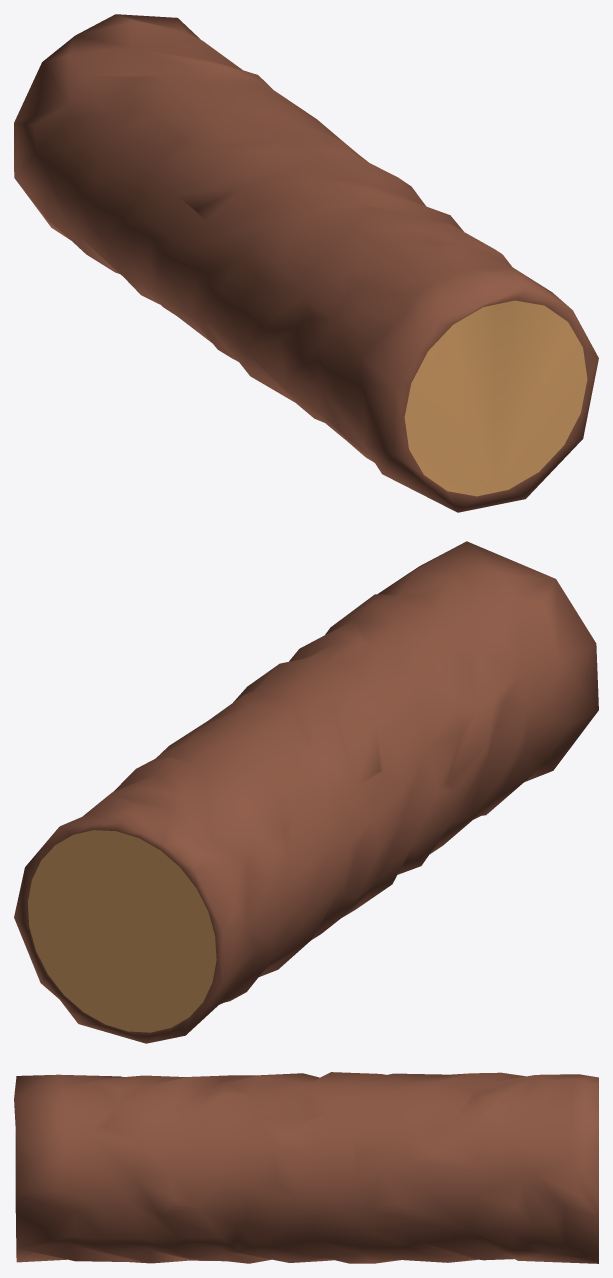
File: GoodLog.fbx
3 views of the same model, one above another, from view 1: azimuth 30°, elevation 25°; view 2: azimuth 150°, elevation 25°; view 3: azimuth 270°, elevation 25° (orthographic). The views are drawn at different scales.
Parts seen in each view (by area): view 1: GoodLog; view 2: GoodLog; view 3: GoodLog.
Part boxes in pixels (x1,y1,x2,y2): GoodLog: [14, 14, 598, 512]; GoodLog: [14, 541, 598, 1043]; GoodLog: [14, 1072, 598, 1263].
Size of the model in its own units: 355 by 354 by 1082.
